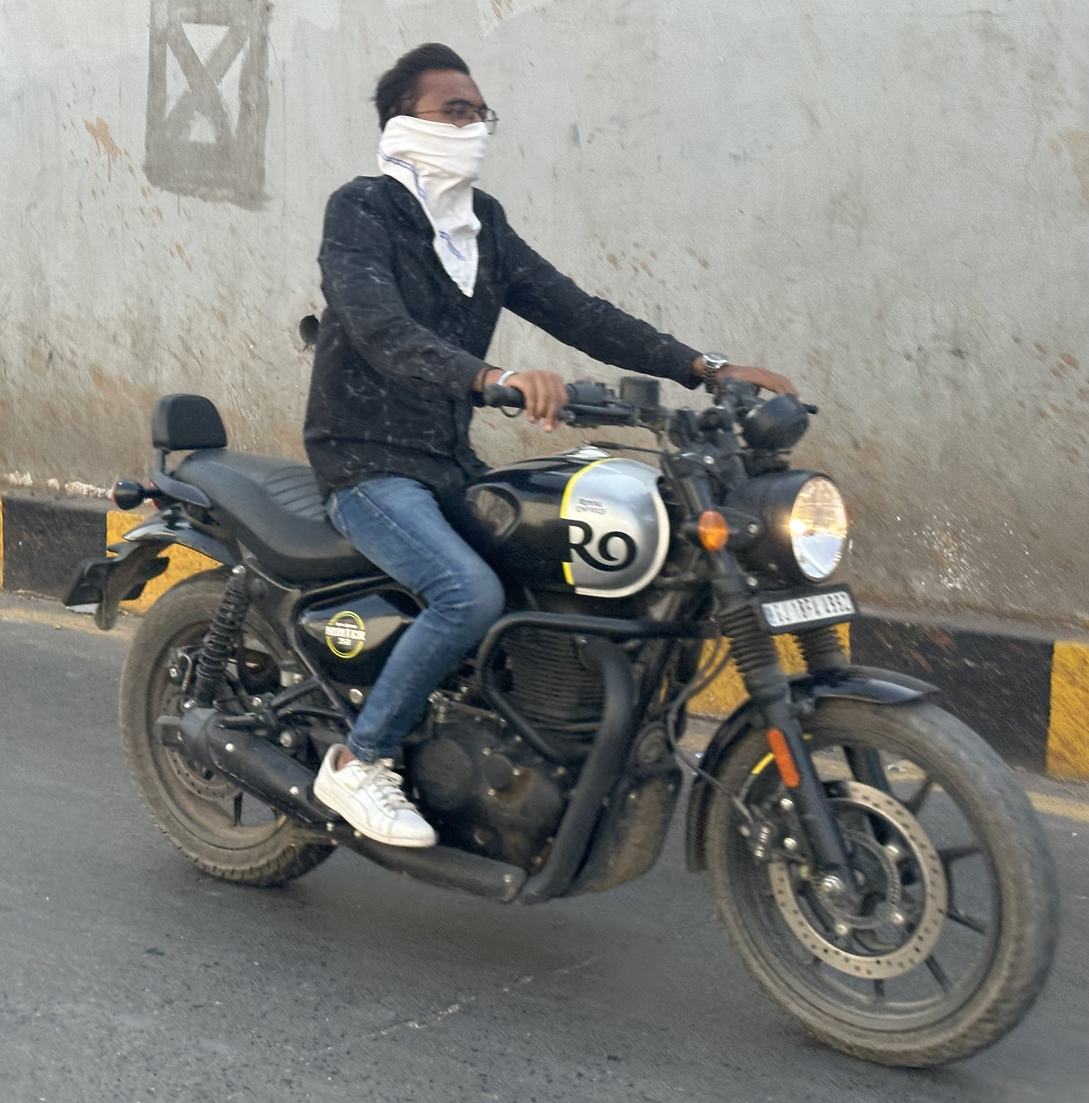BikeWithRider: (59, 41, 1061, 1067)
NoHelmet: (366, 43, 506, 193)
